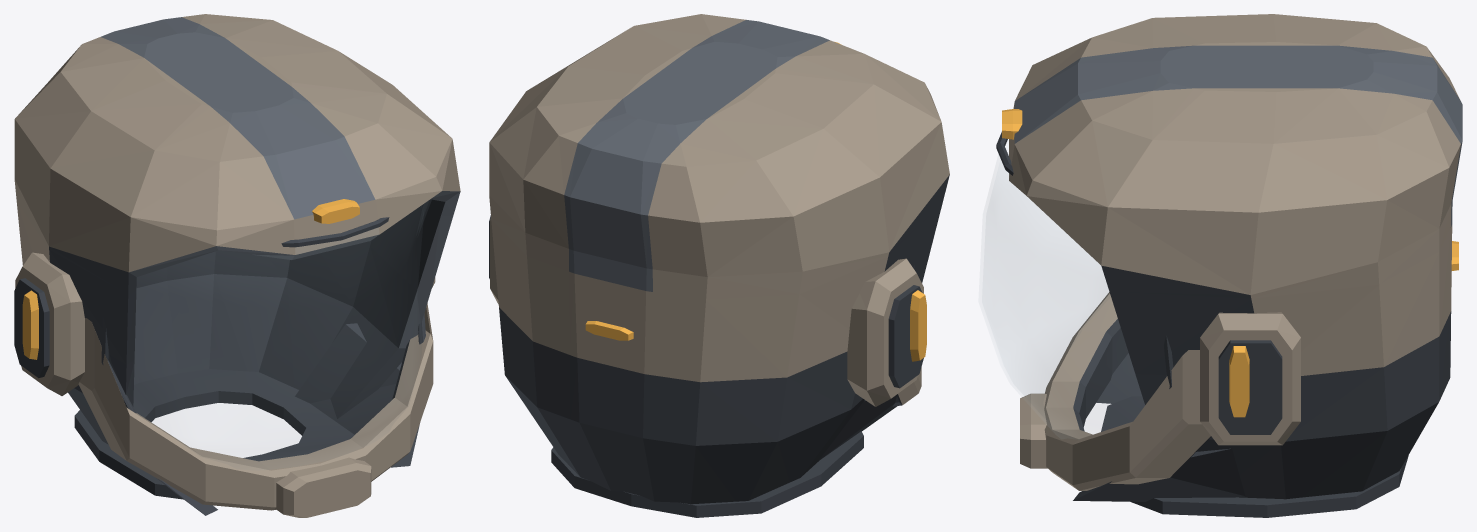
The model's file is helmet_light.glb.
The picture shows the model from 3 angles, left to right: view 1: azimuth 30°, elevation 25°; view 2: azimuth 150°, elevation 25°; view 3: azimuth 270°, elevation 25°; orthographic projection. The views are drawn at different scales.
Visible parts, largest first — view 1: helmet_light; view 2: helmet_light; view 3: helmet_light.
Boxes of the visible parts, x1,y1,x2,y2 form: helmet_light: (14, 14, 460, 517); helmet_light: (489, 14, 949, 517); helmet_light: (982, 14, 1462, 517).
Bounding box in the file's own units: 1.15 × 0.98 × 1.1.
